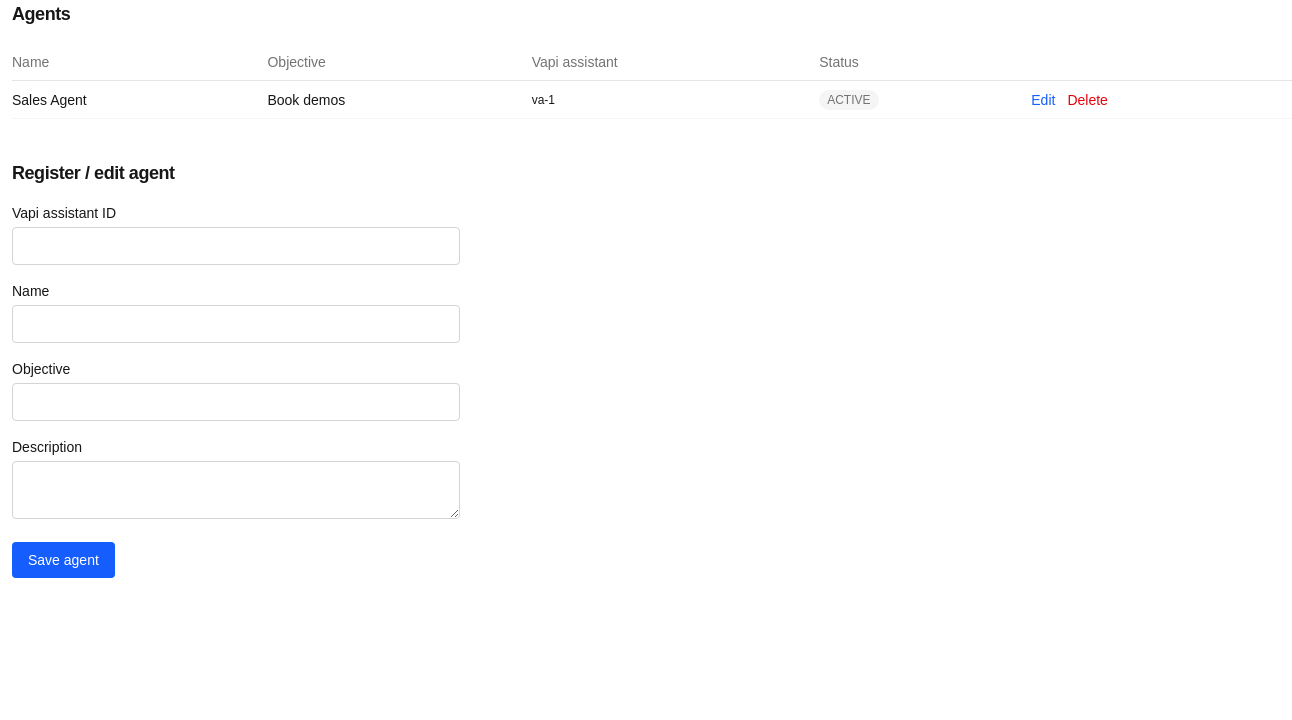
Test: AgentsView › deletes the agent and removes the row after confirmation
Expected: the text "Sales Agent" is shown, top-left (12, 80), bottom-right (268, 118)
Click the button "Delete" at coordinates (1088, 100), box top-left (1067, 90), bottom-right (1108, 110)
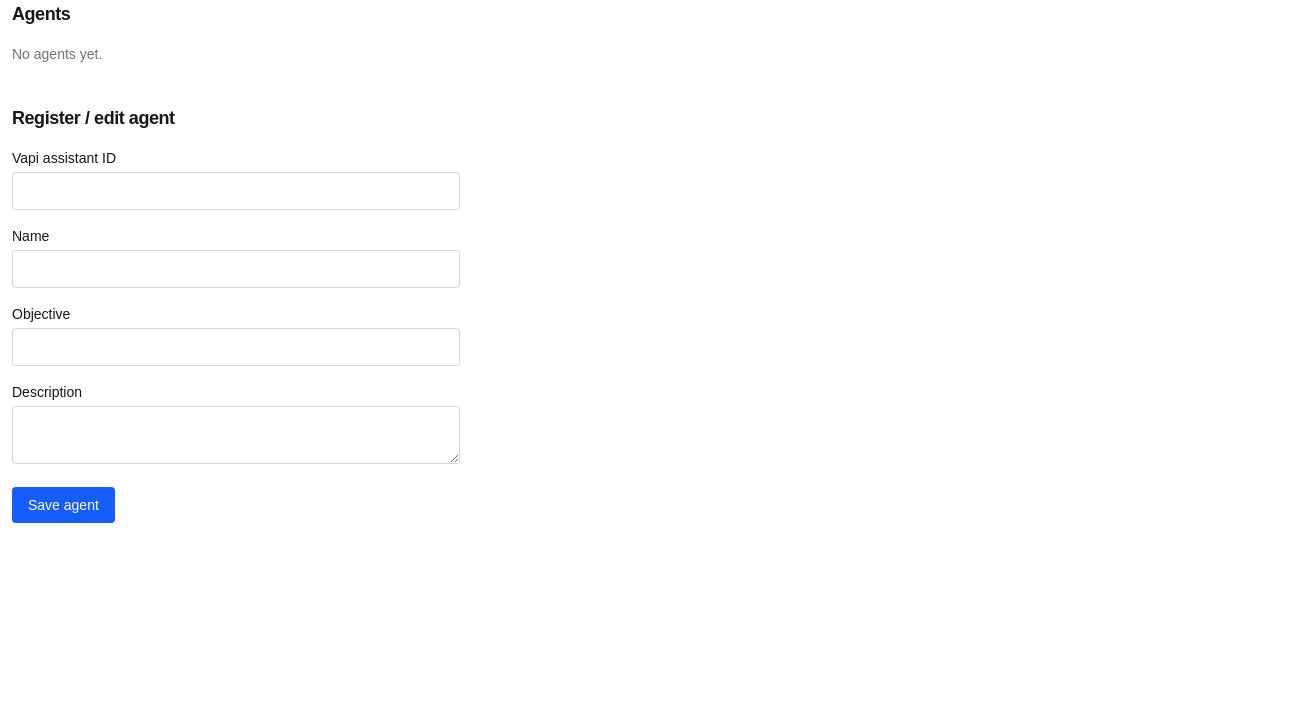
Expected: the text "Sales Agent" is gone
